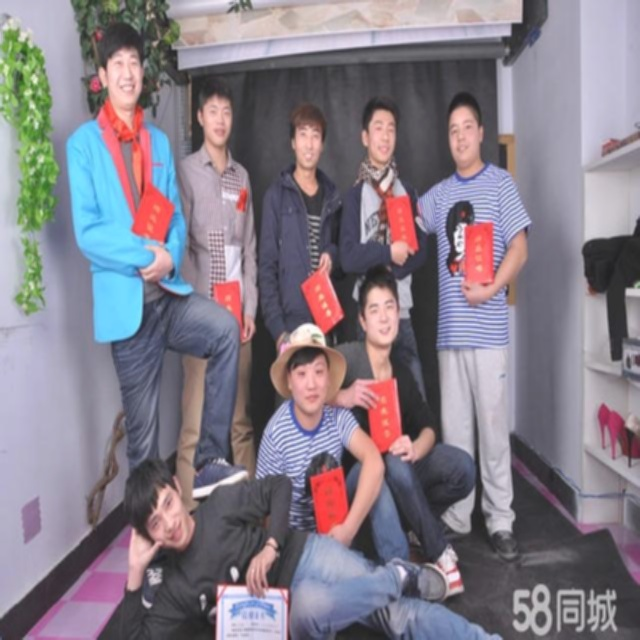Sin_Casco_Mascarrilla: (96, 21, 148, 97), (448, 98, 483, 167), (197, 87, 239, 144), (361, 105, 401, 164), (290, 107, 326, 165)
Sin_Chaleco: (430, 176, 525, 340)
